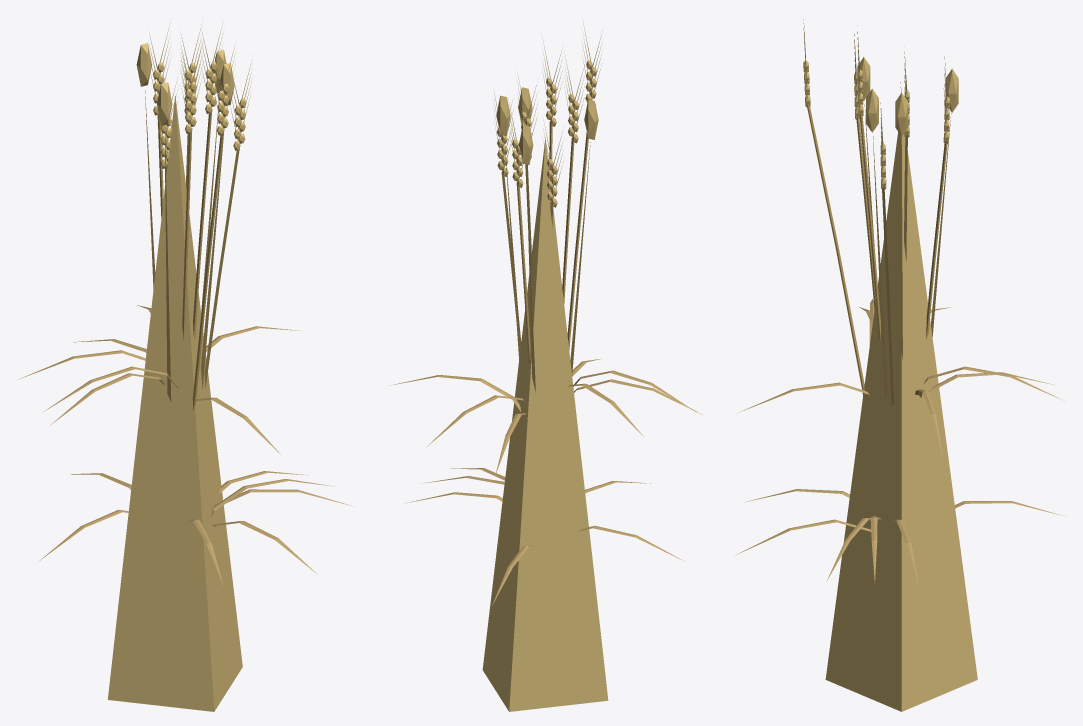
The model's file is barley.glb.
3 views of the same model, side by side, from view 1: azimuth 30°, elevation 25°; view 2: azimuth 150°, elevation 25°; view 3: azimuth 270°, elevation 25° (orthographic). The views are drawn at different scales.
Parts seen in each view (by area): view 1: stem (×3), ear (×2), leaves; view 2: stem (×3), ear (×2), leaves; view 3: stem (×3), leaves, ear (×2).
Part boxes in pixels (x1=…): stem (×3): x1=107, y1=90, x2=242, y2=711; ear (×2): x1=136, y1=23, x2=252, y2=168; leaves: x1=18, y1=305, x2=352, y2=586; stem (×3): x1=482, y1=122, x2=608, y2=711; ear (×2): x1=493, y1=20, x2=602, y2=207; leaves: x1=391, y1=358, x2=702, y2=605; stem (×3): x1=807, y1=100, x2=977, y2=711; leaves: x1=734, y1=299, x2=1064, y2=585; ear (×2): x1=803, y1=19, x2=958, y2=189.
Bounding box in the file's own units: 0.4607 × 1 × 0.456.
